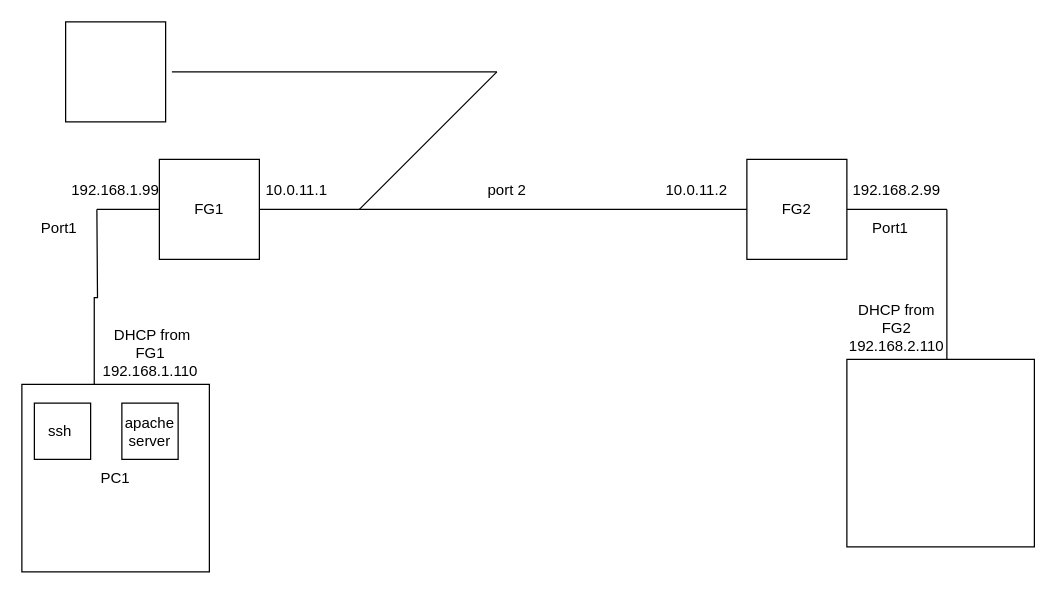
Some shapes in this 1056 by 594 pixel diagram are drawn without their labels. Here are the shapes that lost their labels. From the top down, the box of each, then its label:
(64, 21, 166, 122): SSL Client
(846, 358, 1034, 547): PC2
